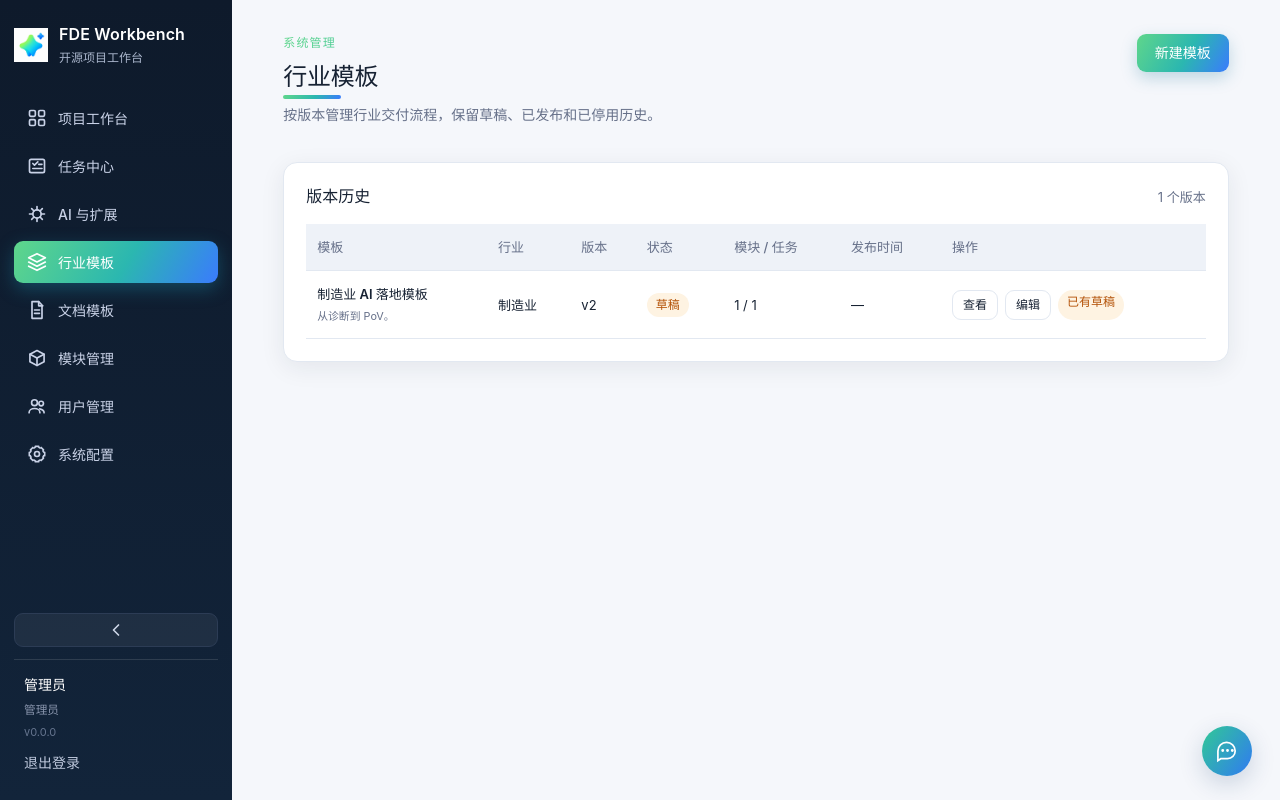
Scenario: 行业模板版本管理 › 草稿编辑发送服务端 version，stale 错误时保留本地值
Click the button with aria-label "编辑 v2".
click(1028, 305)  # box [1005,290,1051,320]
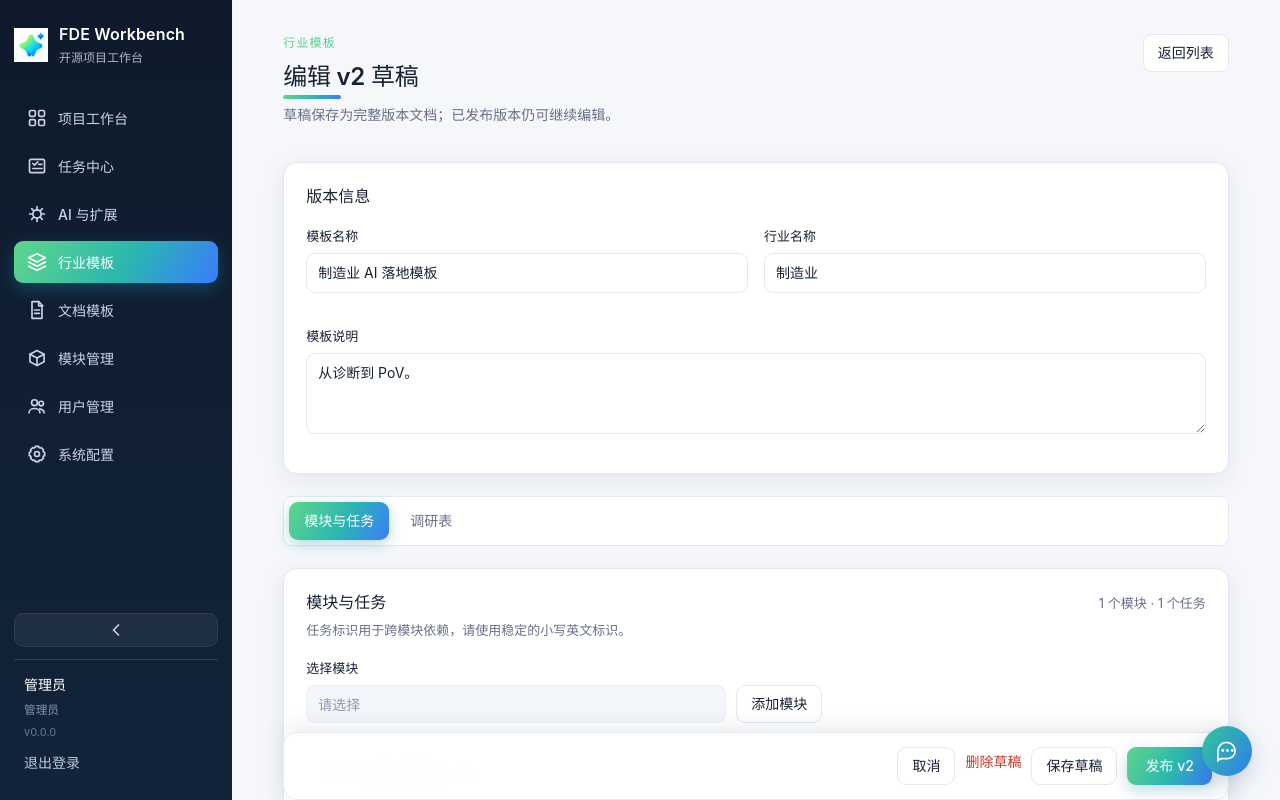
Replace the text in the text box labelled "模板说明" with "本地尚未保存的说明" at point(756, 394), box [306,353,1206,434]
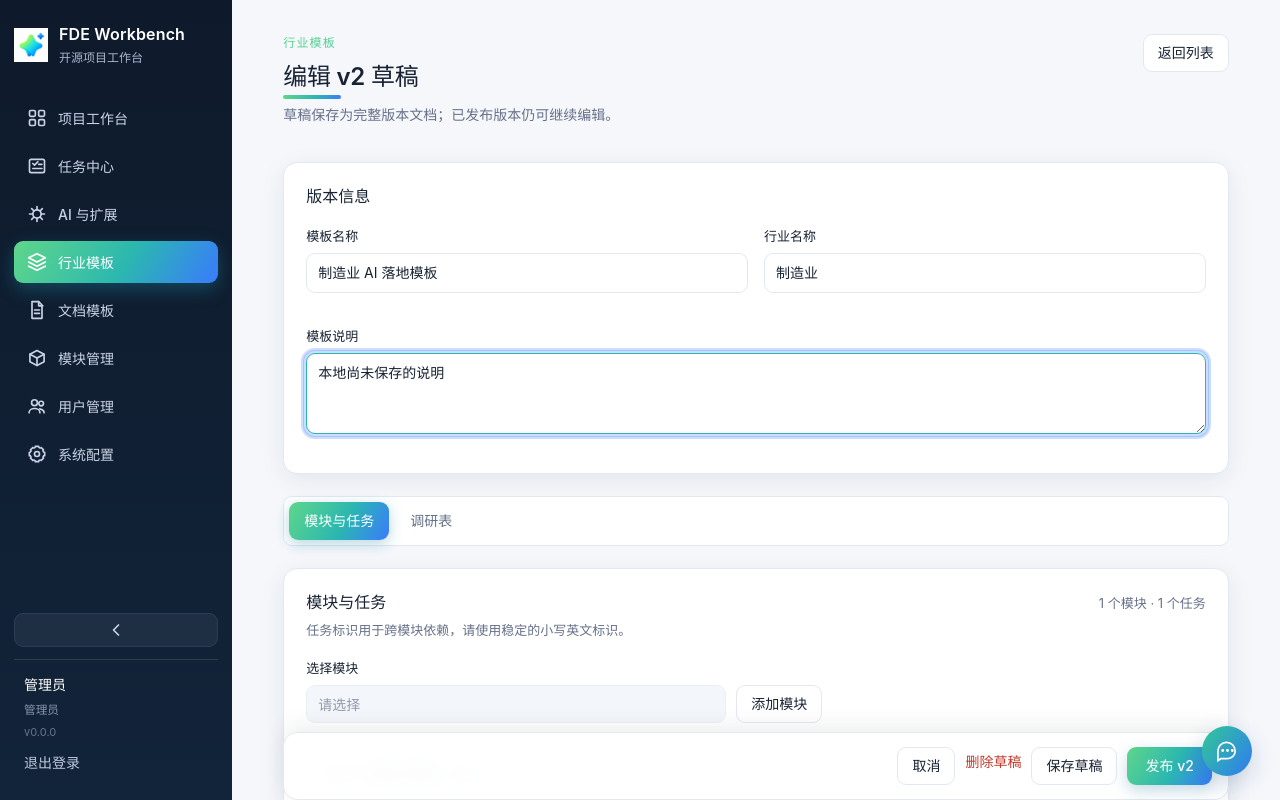
Click the button "保存草稿".
click(1074, 766)  # box [1031,747,1117,785]
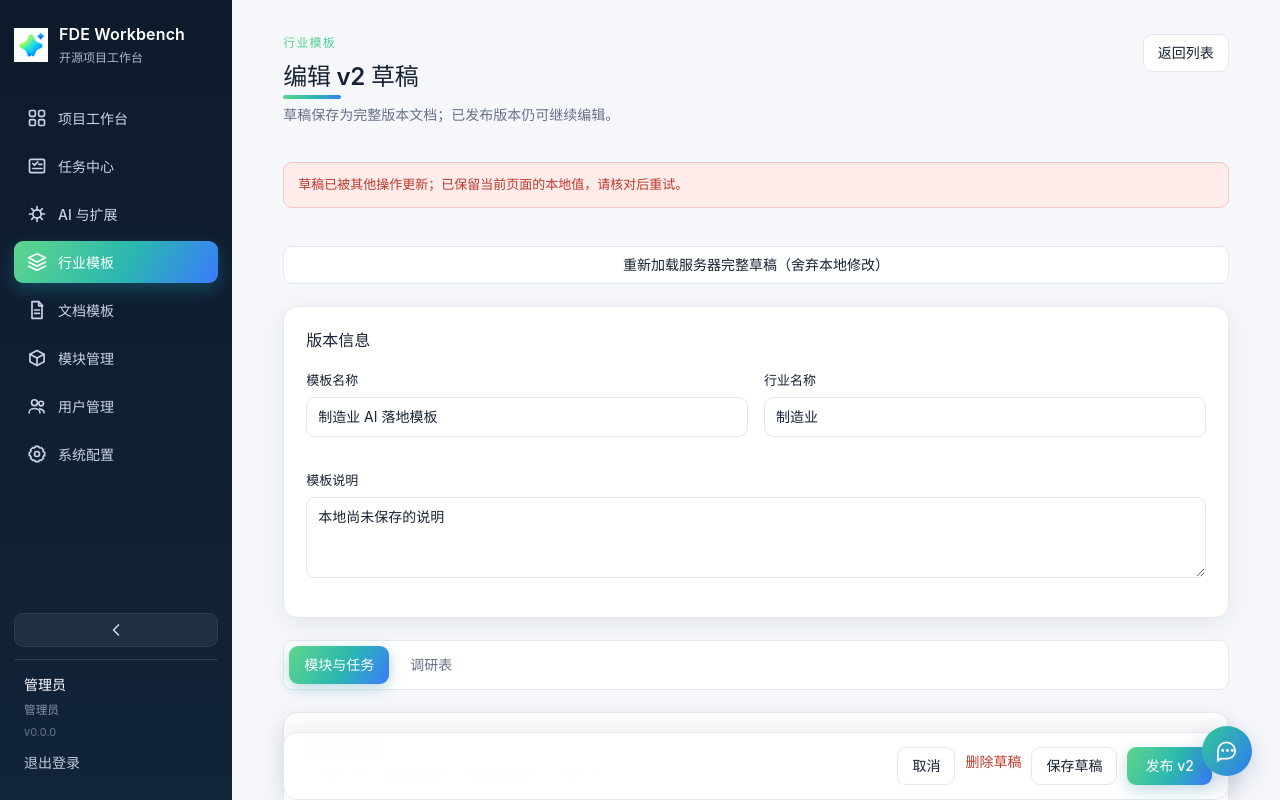
Expected: the message shows "草稿已被其他操作更新", [298,176,688,192]
Click the button "重新加载服务器完整草稿（舍弃本地修改）".
click(756, 265)  # box [283,246,1229,284]
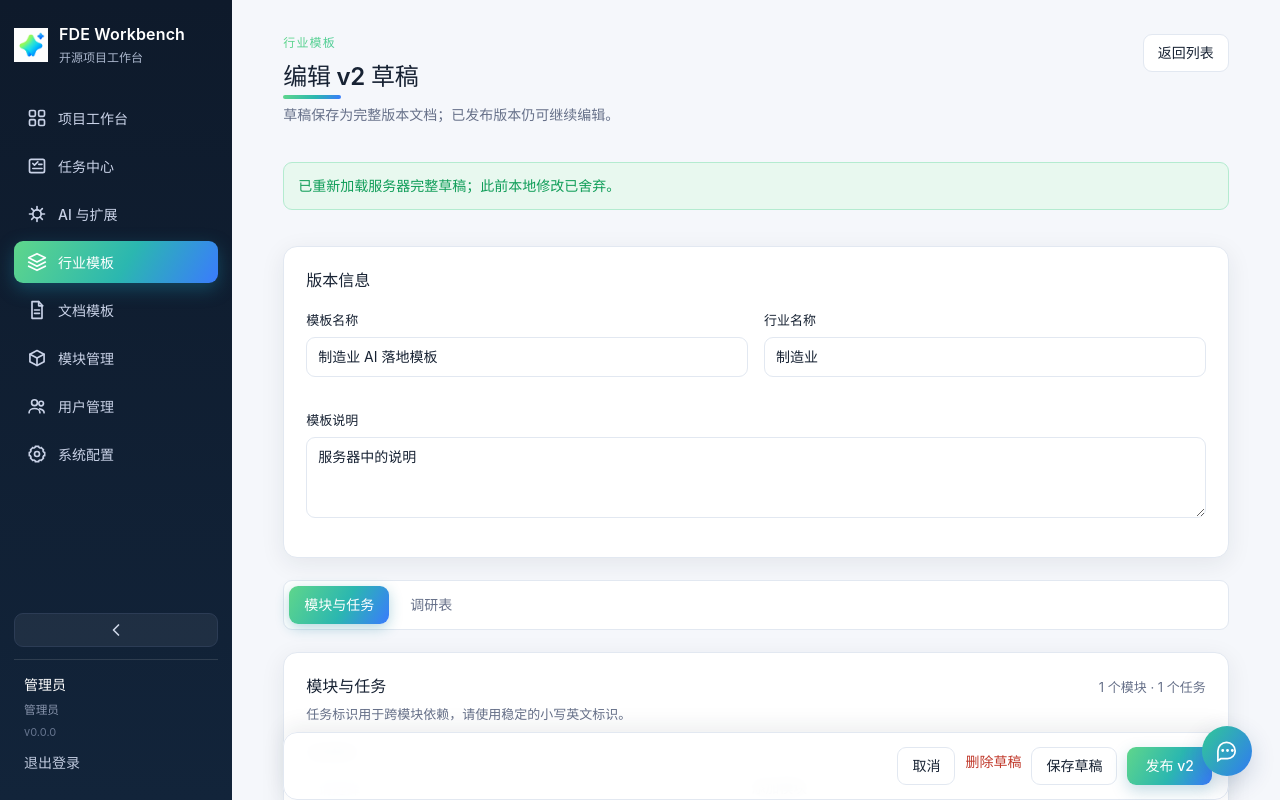
Expected: the text box labelled "模板说明" holds "服务器中的说明"
Replace the text in the text box labelled "模板说明" with "本地尚未保存的说明" at point(756, 477), box [306,437,1206,518]
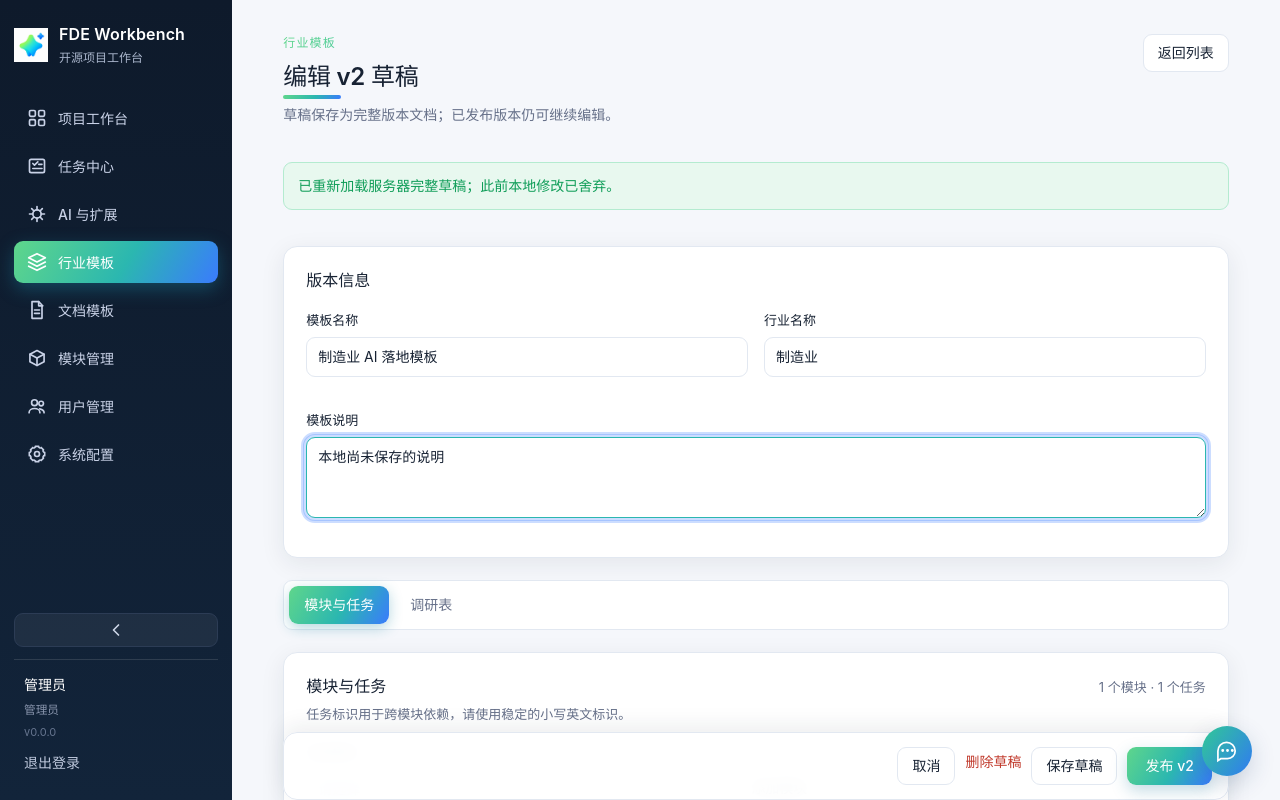
Click the button "保存草稿".
click(1074, 766)  # box [1031,747,1117,785]
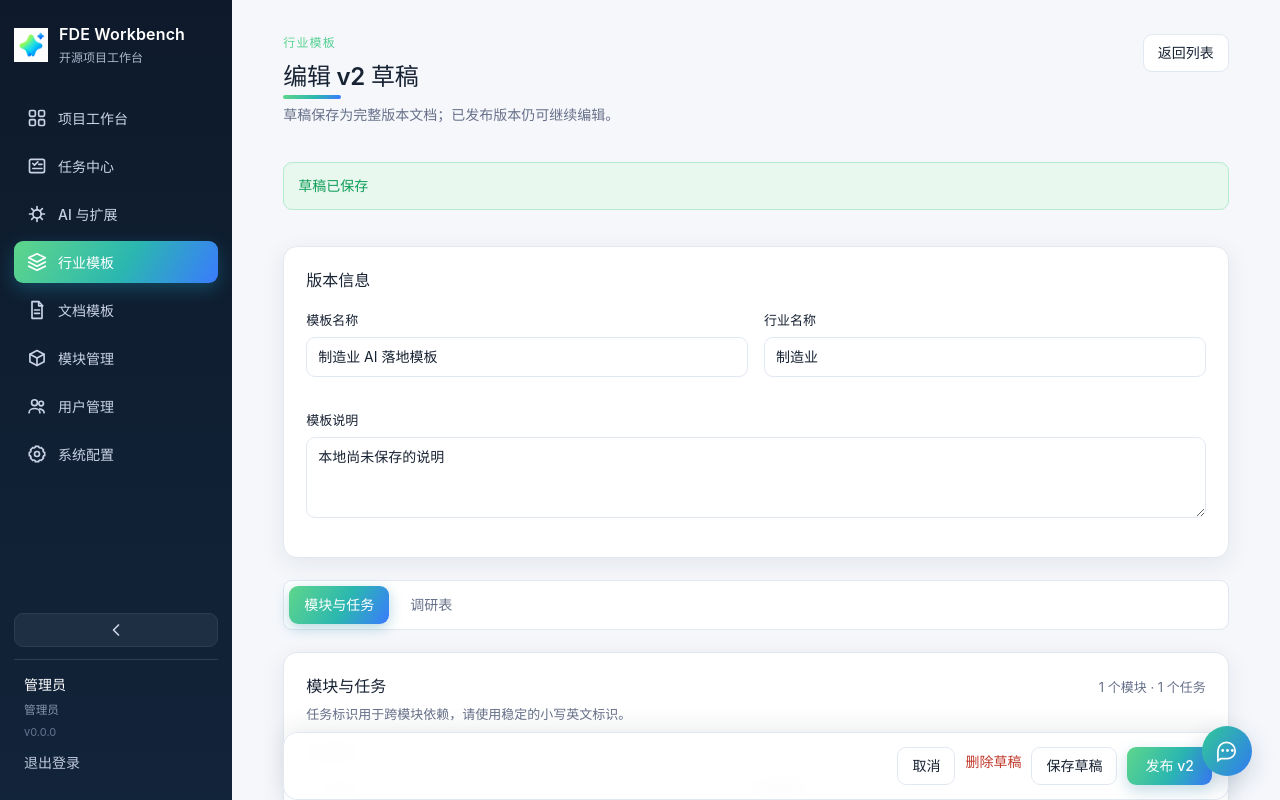
Expected: the text "草稿已保存" is shown, [283,162,1229,210]
